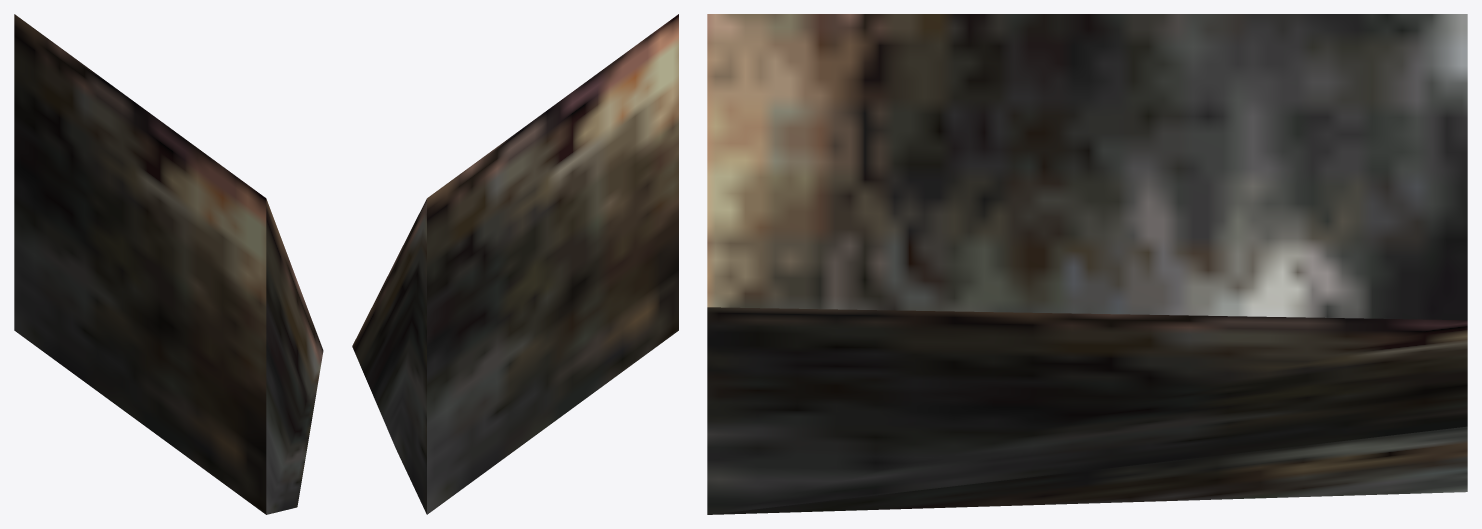
Rendered from USA - Base Infrastructure - Power Plant - Damage State 23 - ABPWRPLANT_d23.glb.
The picture shows the model from 3 angles, left to right: view 1: azimuth 30°, elevation 25°; view 2: azimuth 150°, elevation 25°; view 3: azimuth 270°, elevation 25°; orthographic projection. The views are drawn at different scales.
Visible parts, largest first — view 1: ABPWRPLANT_D23; view 2: ABPWRPLANT_D23; view 3: ABPWRPLANT_D23.
Part boxes in pixels (left/top/right/bottom): ABPWRPLANT_D23: left=14, top=14, right=323, bottom=514; ABPWRPLANT_D23: left=352, top=14, right=678, bottom=514; ABPWRPLANT_D23: left=707, top=14, right=1467, bottom=514.
Bounding box in the file's own units: 1.58 × 6.41 × 9.24.
1 material, 1 textured.
